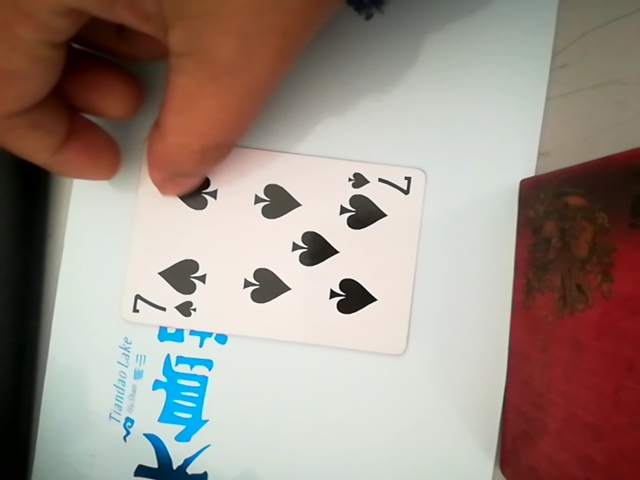ht 7: (107, 147, 426, 363)
